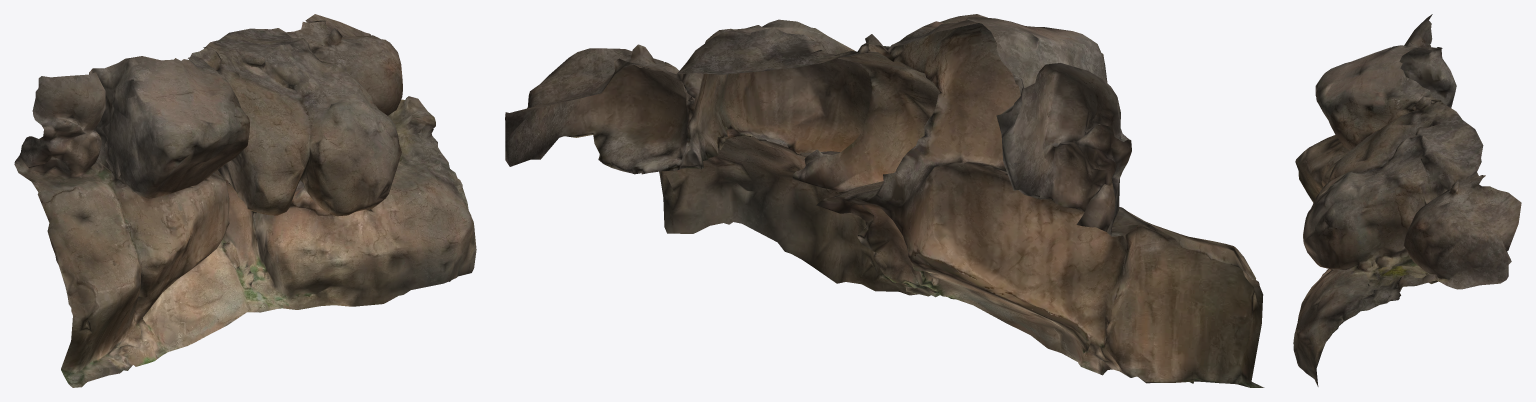
Rendered from cliff_a.glb.
3 renders of one model, left to right at view 1: azimuth 30°, elevation 25°; view 2: azimuth 150°, elevation 25°; view 3: azimuth 270°, elevation 25°, orthographic. The views are drawn at different scales.
Parts seen in each view (by area): view 1: drone_rock_01; view 2: drone_rock_01; view 3: drone_rock_01.
Part boxes in pixels (x1=…): drone_rock_01: x1=14, y1=14, x2=476, y2=387; drone_rock_01: x1=505, y1=14, x2=1264, y2=387; drone_rock_01: x1=1293, y1=14, x2=1521, y2=386.
Size of the model in its own units: 8.27 by 4.96 by 4.38.
1 material, 1 textured.
